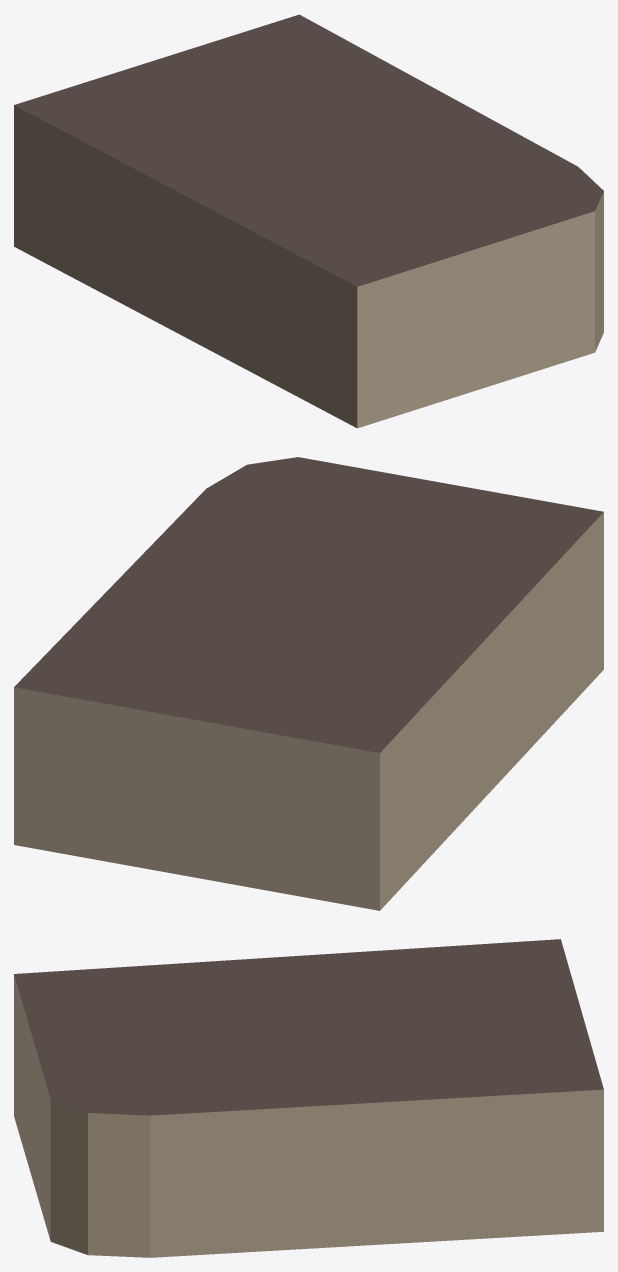
The picture shows the model from 3 angles, top to bottom: view 1: azimuth 30°, elevation 25°; view 2: azimuth 150°, elevation 25°; view 3: azimuth 270°, elevation 25°; orthographic projection. The views are drawn at different scales.
Parts seen in each view (by area): view 1: HP-w380339971; view 2: HP-w380339971; view 3: HP-w380339971.
Part boxes in pixels (left/top/right/bottom): HP-w380339971: left=14, top=14, right=603, bottom=428; HP-w380339971: left=14, top=457, right=603, bottom=910; HP-w380339971: left=14, top=939, right=603, bottom=1257.
Size of the model in its own units: 23.95 by 9 by 33.84.
